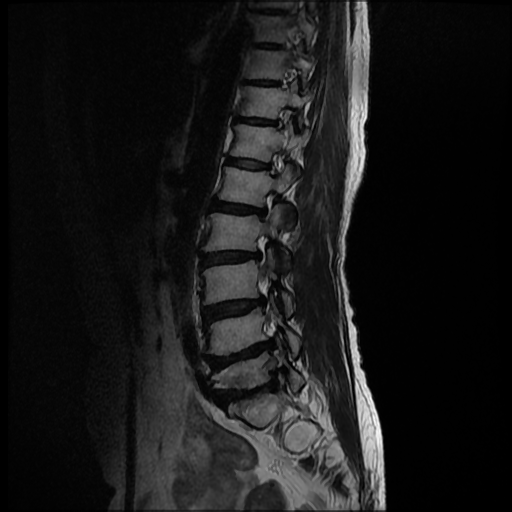LFS1: (245, 186, 283, 226)
